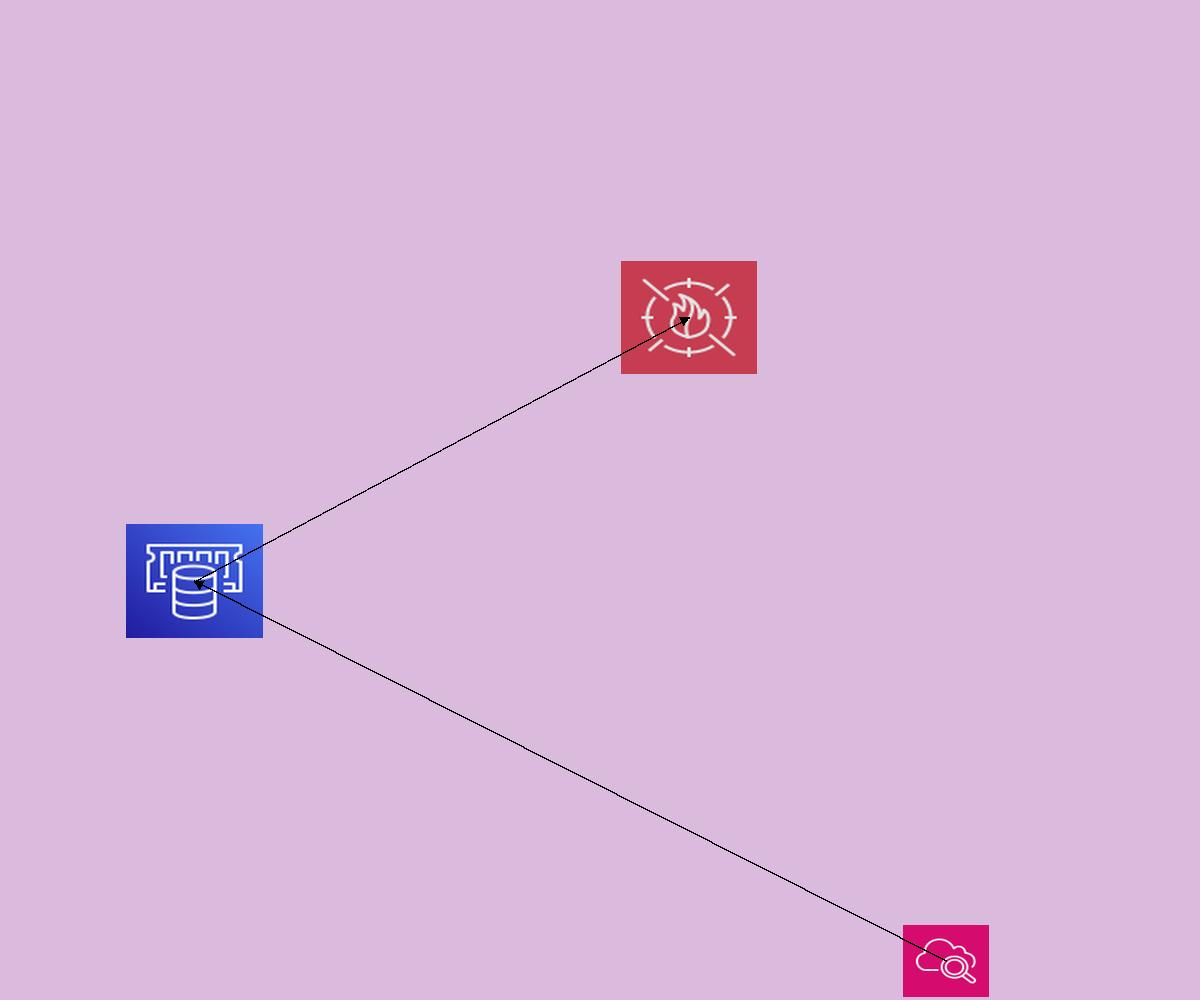AWS-CloudWatch: (903, 925, 989, 997)
AWS-ElastiCache: (126, 524, 263, 638)
AWS-WAF: (621, 261, 757, 374)
